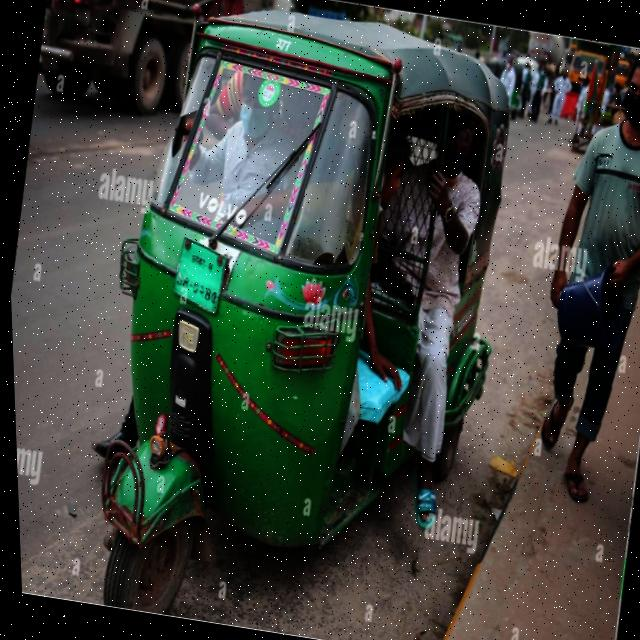cng: (65, 0, 549, 640)
